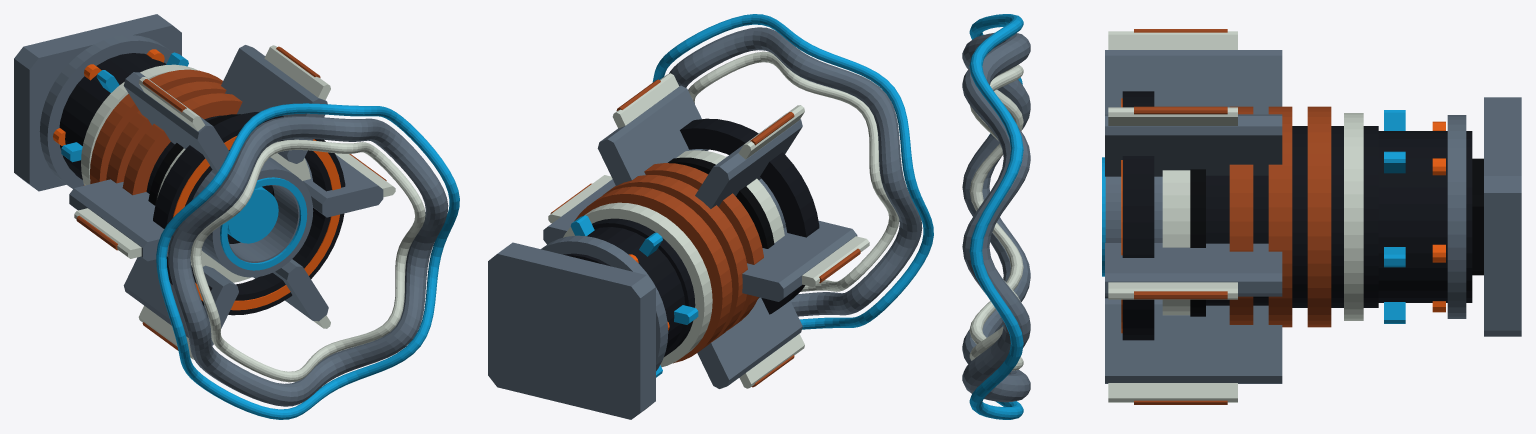
The model's file is M01-020_short_wave_resonator.obj.
3 renders of one model, left to right at view 1: azimuth 30°, elevation 25°; view 2: azimuth 150°, elevation 25°; view 3: azimuth 270°, elevation 25°, orthographic. The views are drawn at different scales.
Parts seen in each view (by area): view 1: WAVE_RING_MAIN, WAVE_RING_CYAN, Mount_Front_Key, WAVE_RING_INNER, Outer_Nose_Band, Front_Emitter_Aperture, Rear_Bolt_Flange, Waveguide_Rib_02, Waveguide_Rib_04, Rear_Power_Block, Waveguide_Rib_05, Waveguide_Rib_03 (+17 smaller); view 2: Mount_Front_Key, WAVE_RING_MAIN, WAVE_RING_CYAN, Waveguide_Rib_02, Outer_Nose_Band, Rear_Induction_Coil, Waveguide_Rib_05, WAVE_RING_INNER, Waveguide_Rib_04, Main_Body_Ceramic_Rim, Middle_Induction_Coil, Rear_Power_Block (+12 smaller); view 3: Rear_Power_Block, WAVE_RING_MAIN, Waveguide_Rib_06, Main_Resonator_Body, Waveguide_Rib_03, Mount_Front_Key, Waveguide_Rib_02, WAVE_RING_CYAN, Waveguide_Rib_01, Rear_Induction_Coil, Outer_Nose_Band, Middle_Induction_Coil (+14 smaller).
Part boxes in pixels (x1=…): WAVE_RING_MAIN: x1=168, y1=116, x2=448, y2=406; WAVE_RING_CYAN: x1=156, y1=103, x2=459, y2=419; Mount_Front_Key: x1=14, y1=14, x2=181, y2=191; WAVE_RING_INNER: x1=190, y1=139, x2=425, y2=382; Outer_Nose_Band: x1=153, y1=112, x2=345, y2=315; Front_Emitter_Aperture: x1=192, y1=157, x2=313, y2=277; Rear_Bolt_Flange: x1=39, y1=35, x2=172, y2=188; Waveguide_Rib_02: x1=221, y1=45, x2=327, y2=163; Waveguide_Rib_04: x1=69, y1=179, x2=171, y2=261; Rear_Power_Block: x1=59, y1=53, x2=166, y2=179; Waveguide_Rib_05: x1=123, y1=256, x2=238, y2=345; Waveguide_Rib_03: x1=123, y1=72, x2=229, y2=174; Mount_Front_Key: x1=488, y1=242, x2=655, y2=419; WAVE_RING_MAIN: x1=669, y1=27, x2=922, y2=316; WAVE_RING_CYAN: x1=652, y1=14, x2=933, y2=329; Waveguide_Rib_02: x1=597, y1=85, x2=708, y2=185; Outer_Nose_Band: x1=680, y1=118, x2=819, y2=314; Rear_Induction_Coil: x1=574, y1=186, x2=732, y2=363; Waveguide_Rib_05: x1=697, y1=297, x2=802, y2=388; WAVE_RING_INNER: x1=688, y1=51, x2=899, y2=291; Waveguide_Rib_04: x1=742, y1=221, x2=857, y2=301; Main_Body_Ceramic_Rim: x1=563, y1=202, x2=712, y2=367; Middle_Induction_Coil: x1=603, y1=175, x2=747, y2=342; Rear_Power_Block: x1=563, y1=227, x2=685, y2=350; Rear_Power_Block: x1=1378, y1=131, x2=1472, y2=302; WAVE_RING_MAIN: x1=962, y1=32, x2=1030, y2=402; Waveguide_Rib_06: x1=1105, y1=298, x2=1282, y2=383; Main_Resonator_Body: x1=1206, y1=126, x2=1378, y2=307; Waveguide_Rib_03: x1=1105, y1=50, x2=1282, y2=114; Mount_Front_Key: x1=1484, y1=97, x2=1521, y2=336; Waveguide_Rib_02: x1=1105, y1=114, x2=1282, y2=176; WAVE_RING_CYAN: x1=969, y1=14, x2=1023, y2=419; Waveguide_Rib_01: x1=1105, y1=243, x2=1282, y2=296; Rear_Induction_Coil: x1=1307, y1=106, x2=1331, y2=327; Outer_Nose_Band: x1=1122, y1=91, x2=1154, y2=340; Middle_Induction_Coil: x1=1268, y1=106, x2=1292, y2=327.
Size of the model in its own units: 0.824 by 0.824 by 1.13.
